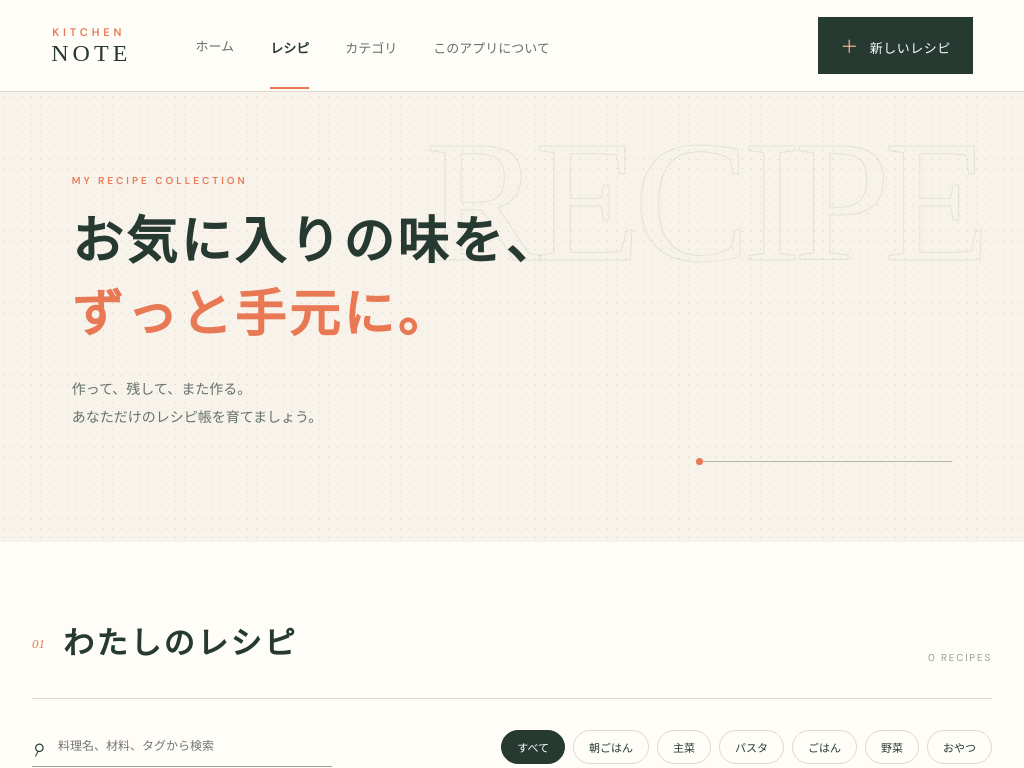
RecipeApp › filters recipes by ingredient
The image size is (1024, 768).
Type "サーモン" into the field with placeholder "料理名、材料、タグから検索" at coordinates (189, 746), box [46,726,332,766]
(page scrolled)
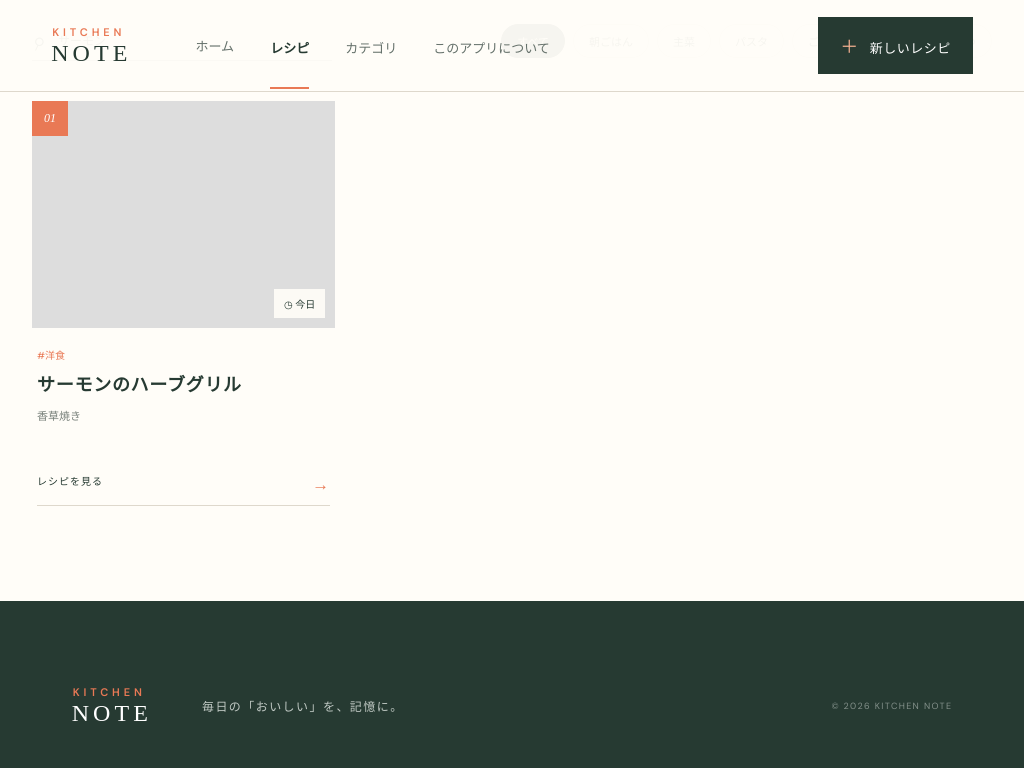
expect the heading "サーモンのハーブグリル" is shown: met, box [37,375,242,395]
